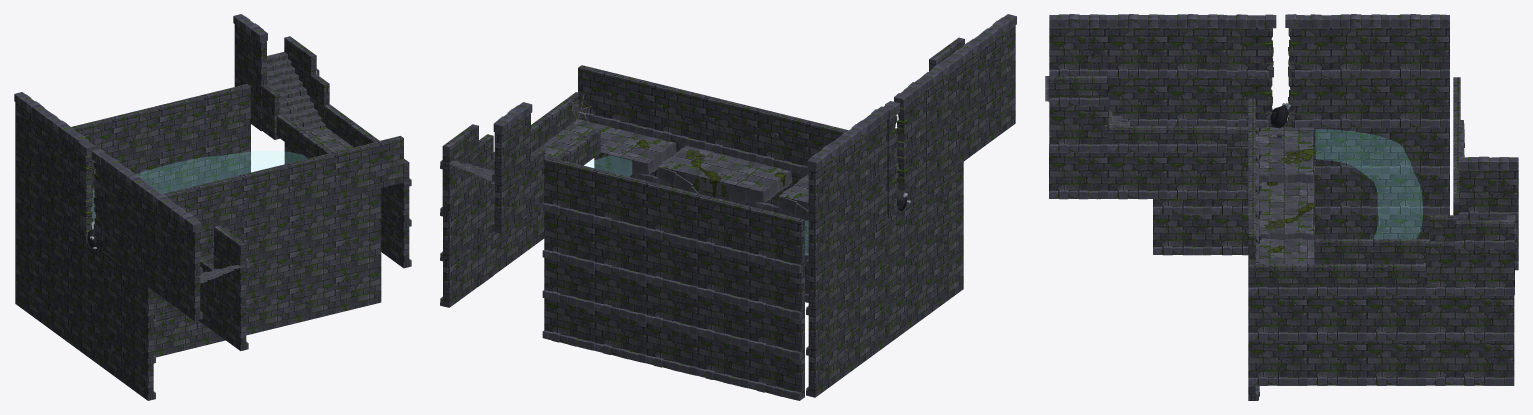
Rendered from SecretPathAssets.gltf.
The picture shows the model from 3 angles, left to right: view 1: azimuth 30°, elevation 25°; view 2: azimuth 150°, elevation 25°; view 3: azimuth 270°, elevation 25°; orthographic projection. The views are drawn at different scales.
Visible parts, largest first — view 1: P_MOD_Wall_01_E_straight_med (×57), P_MOD_Wall_01_E_straight_med_half_L (×7), Spectral path (1), P_MOD_WallCover_01_E_straight (1) (×6), P_MOD_Stairs_01_E_straight_2 (1), P_MOD_Wall_01_E_straight_med_edge_L (×2), MOD_Wall_01_E_straight_small (4), MOD_Wall_01_E_straight_small (12), MOD_Wall_01_E_straight_small (11), MOD_Wall_01_E_straight_small (8), MOD_Wall_01_E_straight_small (7), P_MOD_Floor_01_O_straight_med (13) (+2 smaller); view 2: P_MOD_Wall_01_E_straight_med (×56), P_MOD_Wall_01_E_straight_med_half_L (×11), P_MOD_WallCover_01_E_straight (1) (×6), P_MOD_Wall_01_E_straight_med_edge_R (×2), P_MOD_Floor_01_O_straight_med (8), P_MOD_Floor_01_O_straight_med (9), P_MOD_Floor_01_O_straight_med (10), P_MOD_Wall_01_E_straight_med_edge_L (×2), MOD_Wall_01_E_straight_small (12), P_MOD_Floor_01_O_straight_med (11), MOD_Wall_01_E_straight_small (7), MOD_Wall_01_E_straight_small (9) (+5 smaller); view 3: P_MOD_Wall_01_E_straight_med (×34), P_MOD_WallTrim_01_E_straight (1) (×26), P_MOD_Wall_01_E_straight_med_half_L (×11), Spectral path (1), P_MOD_WallCover_01_E_straight (1) (×6), P_MOD_WallTrim_01_E_straight (2) (×8), MOD_Wall_01_E_straight_small (7), MOD_Wall_01_E_straight_small (9), MOD_Wall_01_E_straight_small (10), MOD_Wall_01_E_straight_small (11), P_MOD_Wall_01_E_straight_med_edge_R (×2), MOD_Wall_01_E_straight_small (8) (+13 smaller).
Boxes of the visible parts, <box> form: P_MOD_Wall_01_E_straight_med (×57): <box>15,24,409,400</box>; P_MOD_Wall_01_E_straight_med_half_L (×7): <box>68,74,403,259</box>; Spectral path (1): <box>91,151,306,220</box>; P_MOD_WallCover_01_E_straight (1) (×6): <box>14,14,267,231</box>; P_MOD_Stairs_01_E_straight_2 (1): <box>267,52,325,130</box>; P_MOD_Wall_01_E_straight_med_edge_L (×2): <box>79,150,92,243</box>; MOD_Wall_01_E_straight_small (4): <box>214,225,245,266</box>; MOD_Wall_01_E_straight_small (12): <box>284,36,316,75</box>; MOD_Wall_01_E_straight_small (11): <box>324,104,355,144</box>; MOD_Wall_01_E_straight_small (8): <box>276,113,306,153</box>; MOD_Wall_01_E_straight_small (7): <box>301,132,333,158</box>; P_MOD_Floor_01_O_straight_med (13): <box>306,127,347,147</box>; P_MOD_Wall_01_E_straight_med (×56): <box>443,25,1015,399</box>; P_MOD_Wall_01_E_straight_med_half_L (×11): <box>442,65,926,286</box>; P_MOD_WallCover_01_E_straight (1) (×6): <box>493,14,1016,170</box>; P_MOD_Wall_01_E_straight_med_edge_R (×2): <box>896,102,911,202</box>; P_MOD_Floor_01_O_straight_med (8): <box>659,146,737,178</box>; P_MOD_Floor_01_O_straight_med (9): <box>717,158,788,188</box>; P_MOD_Floor_01_O_straight_med (10): <box>600,130,673,160</box>; P_MOD_Wall_01_E_straight_med_edge_L (×2): <box>887,115,897,217</box>; MOD_Wall_01_E_straight_small (12): <box>442,124,478,167</box>; P_MOD_Floor_01_O_straight_med (11): <box>550,119,622,145</box>; MOD_Wall_01_E_straight_small (7): <box>565,128,600,165</box>; MOD_Wall_01_E_straight_small (9): <box>546,92,578,137</box>; P_MOD_Wall_01_E_straight_med (×34): <box>1049,27,1518,377</box>; P_MOD_WallTrim_01_E_straight (1) (×26): <box>1049,69,1518,385</box>; P_MOD_Wall_01_E_straight_med_half_L (×11): <box>1227,27,1514,377</box>; Spectral path (1): <box>1316,129,1422,238</box>; P_MOD_WallCover_01_E_straight (1) (×6): <box>1049,14,1518,170</box>; P_MOD_WallTrim_01_E_straight (2) (×8): <box>1049,97,1514,295</box>; MOD_Wall_01_E_straight_small (7): <box>1314,239,1373,264</box>; MOD_Wall_01_E_straight_small (9): <box>1248,264,1307,287</box>; MOD_Wall_01_E_straight_small (10): <box>1308,264,1367,287</box>; MOD_Wall_01_E_straight_small (11): <box>1367,264,1426,287</box>; P_MOD_Wall_01_E_straight_med_edge_R (×2): <box>1257,28,1273,126</box>; MOD_Wall_01_E_straight_small (8): <box>1374,239,1429,264</box>.
Size of the model in its own units: 27.06 by 17.53 by 31.89.
8 materials, 7 textured.
